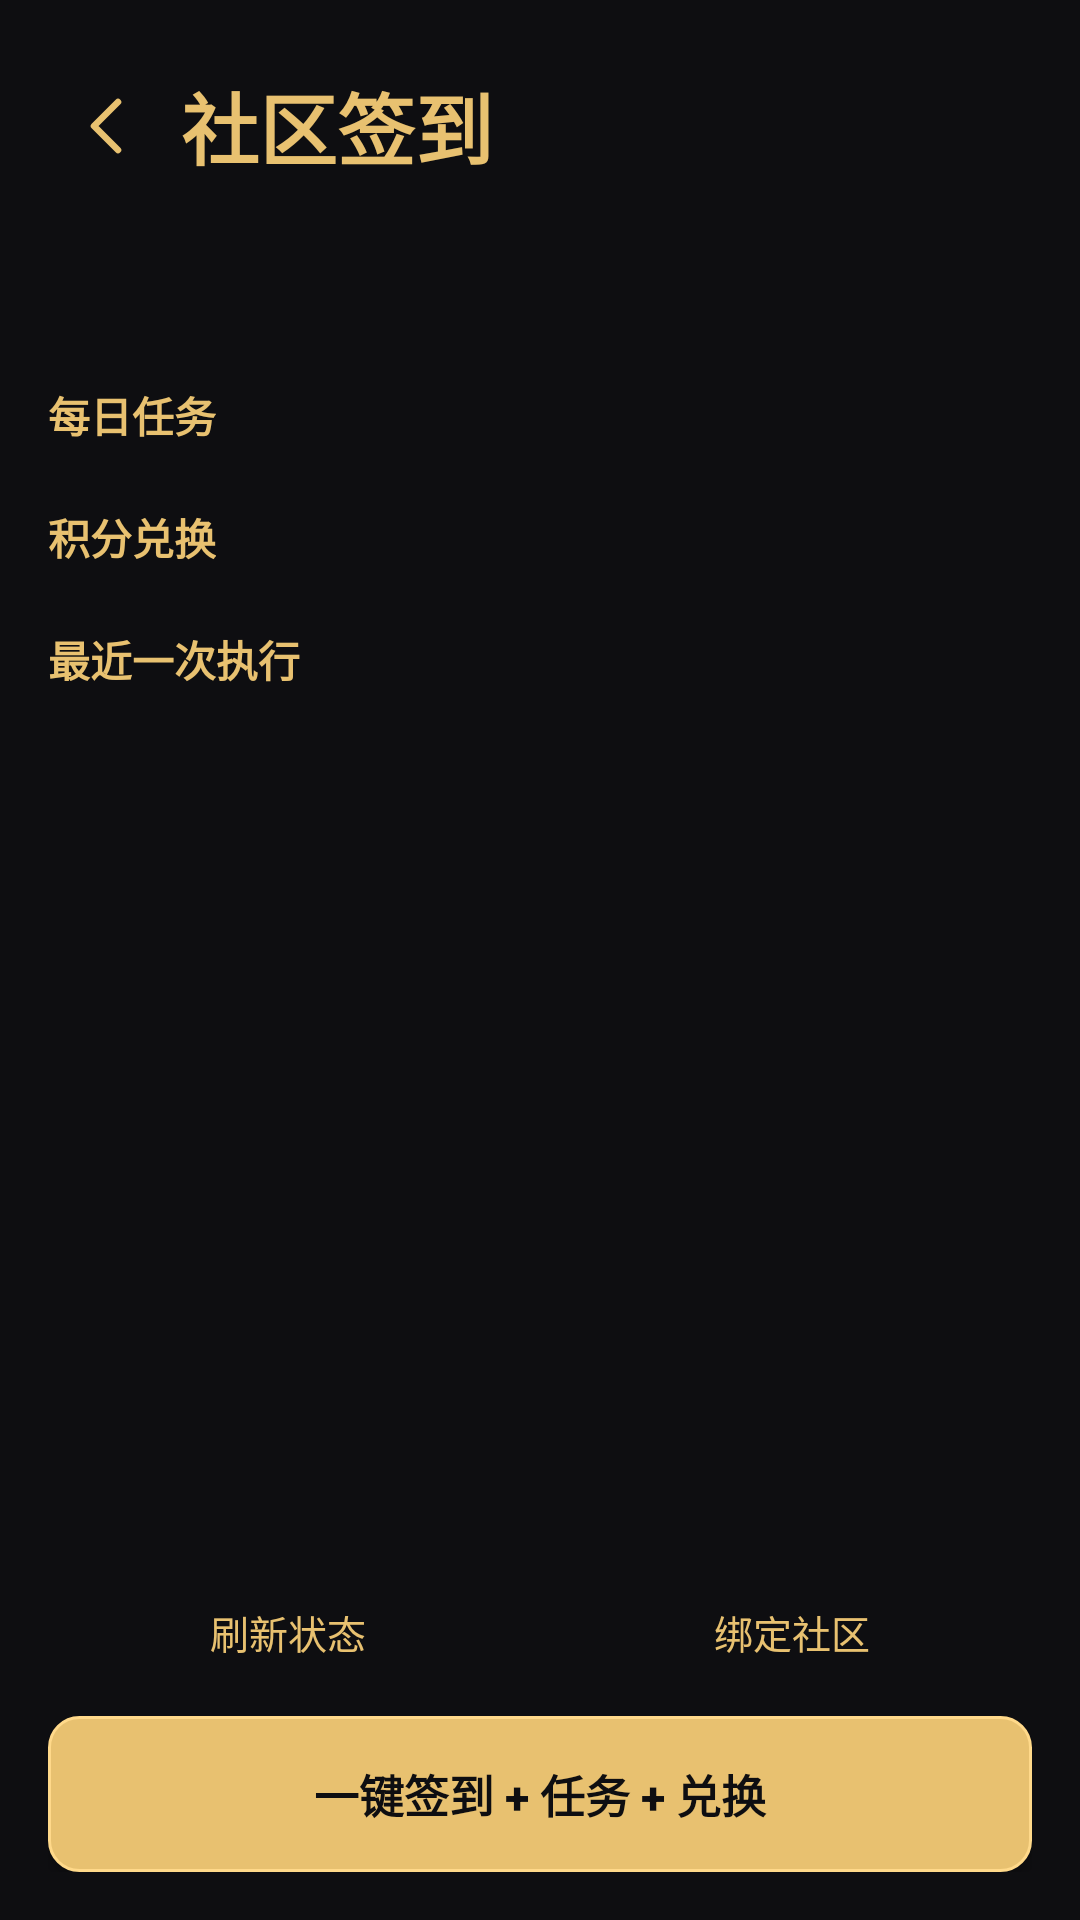

Where to tap for icons on this 1080 × 1920 app screen, as point (x, y):
返回: point (106, 126)
